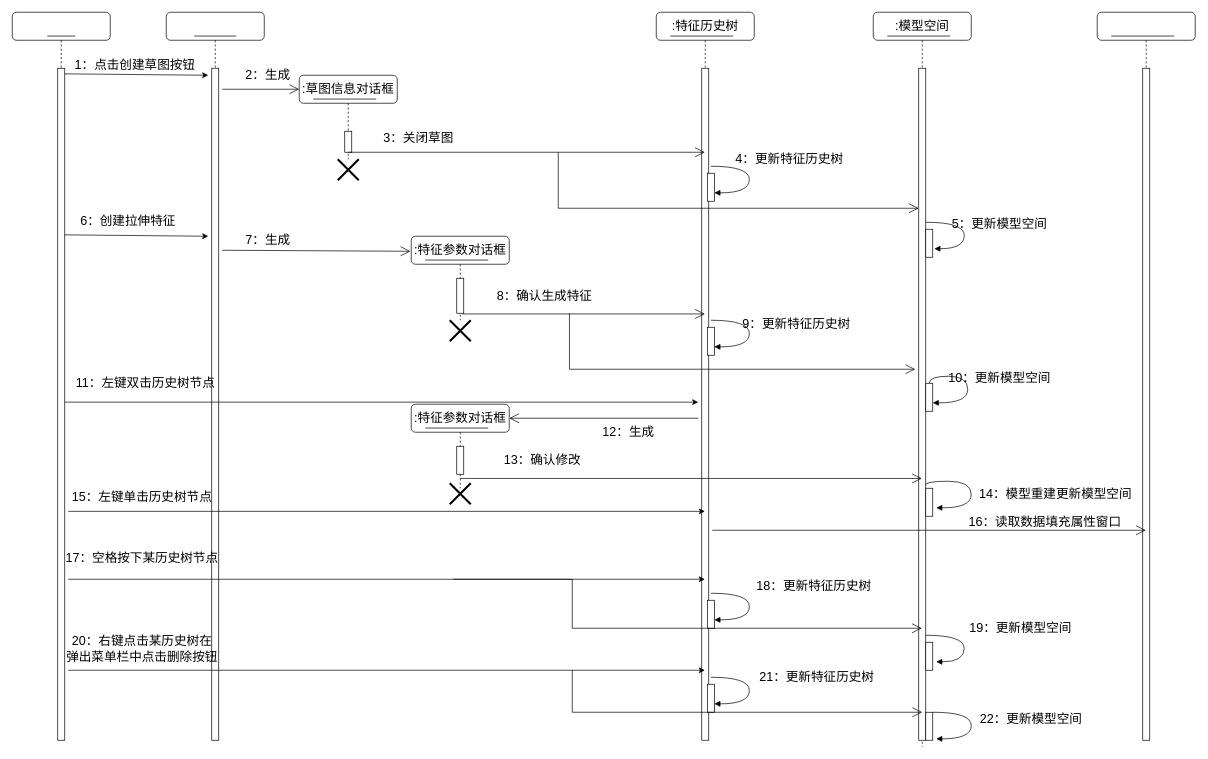
Image size: 1208x759. Some labels were removed from this diagram. Each missing label, with the box of its shape:
:主界面: (166, 12, 264, 740)
:属性窗口: (1097, 12, 1195, 740)
:用户: (12, 12, 110, 740)
